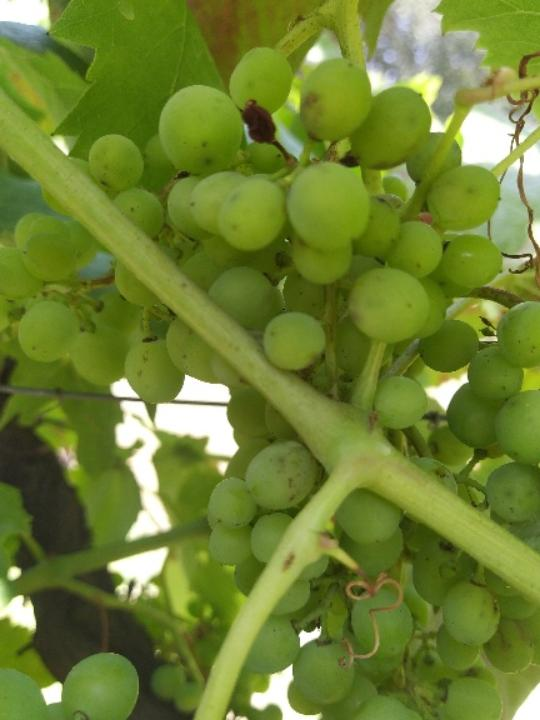grape: (0, 40, 540, 720)
